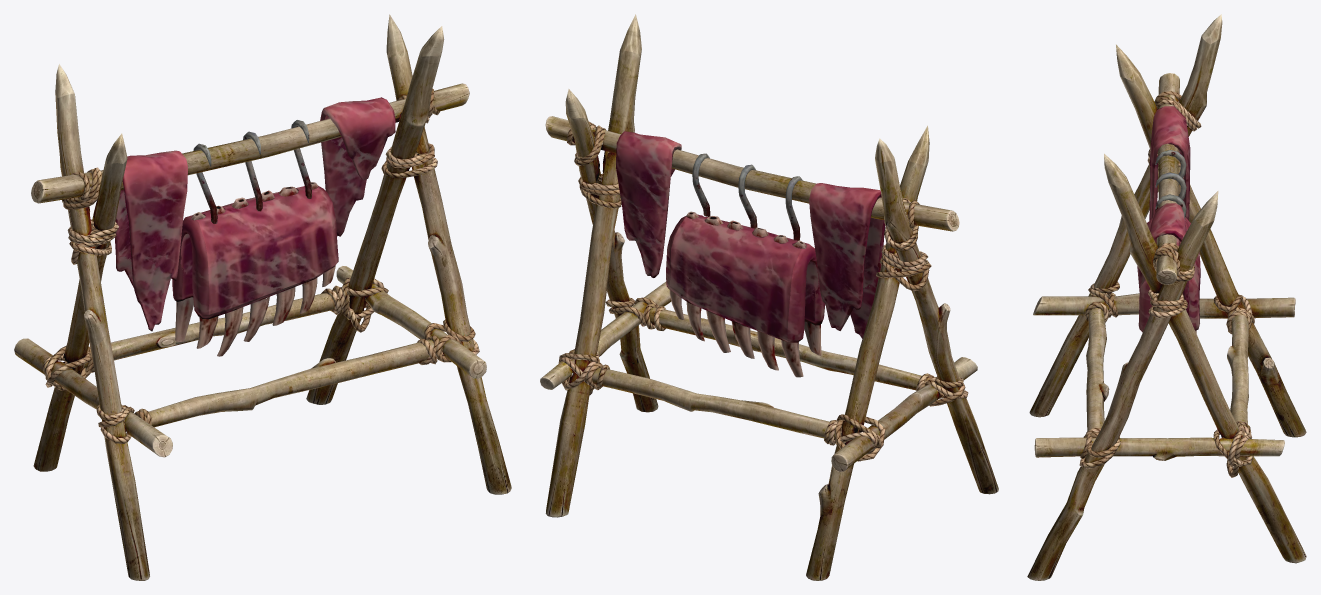
3 renders of one model, left to right at view 1: azimuth 30°, elevation 25°; view 2: azimuth 150°, elevation 25°; view 3: azimuth 270°, elevation 25°, orthographic. The views are drawn at different scales.
Parts seen in each view (by area): view 1: SM_Garou_Rack_Meat_01_LOD0; view 2: SM_Garou_Rack_Meat_01_LOD0; view 3: SM_Garou_Rack_Meat_01_LOD0.
Part boxes in pixels (box(x1,y1,x2,y2)): SM_Garou_Rack_Meat_01_LOD0: box(14, 14, 511, 580); SM_Garou_Rack_Meat_01_LOD0: box(540, 14, 998, 580); SM_Garou_Rack_Meat_01_LOD0: box(1027, 14, 1306, 580).
Size of the model in its own units: 2.61 by 2.58 by 1.58.
2 materials, 2 textured.
